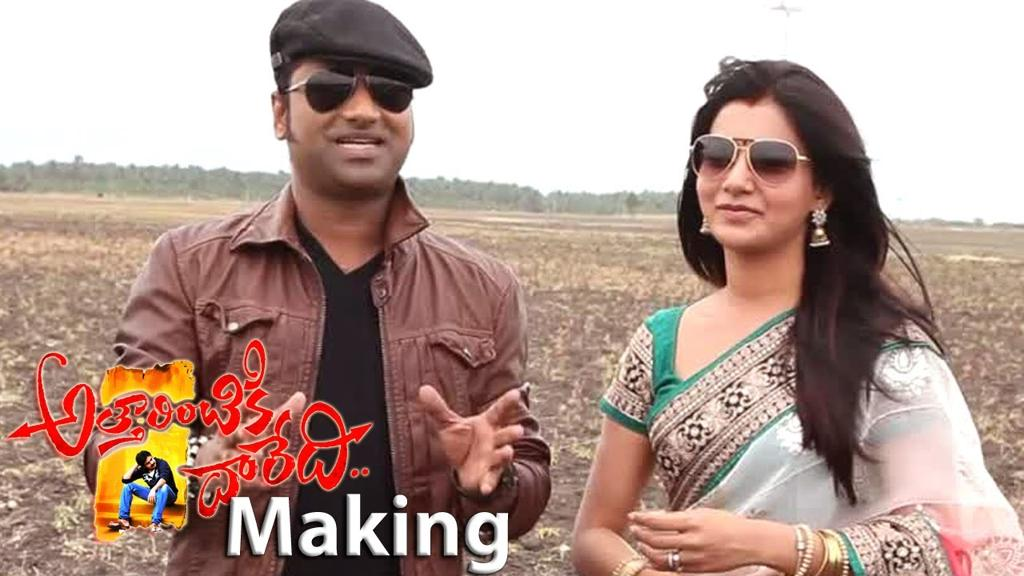face: (286, 38, 412, 190), (694, 104, 800, 240)
